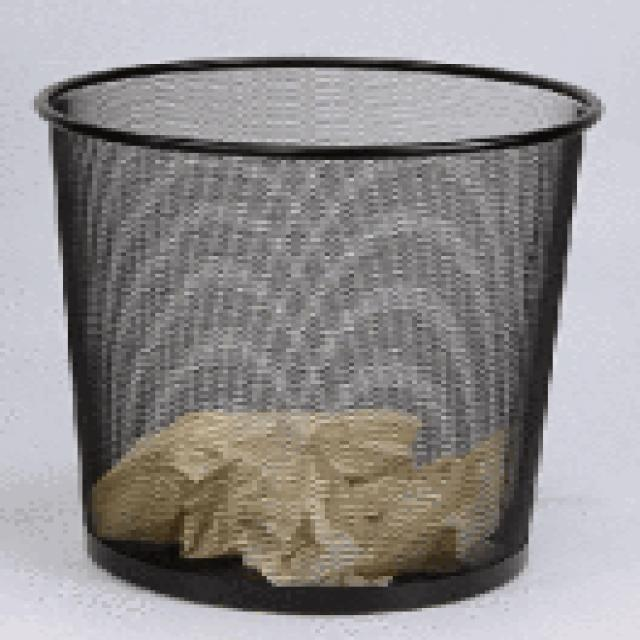dustbin: (32, 49, 607, 622)
